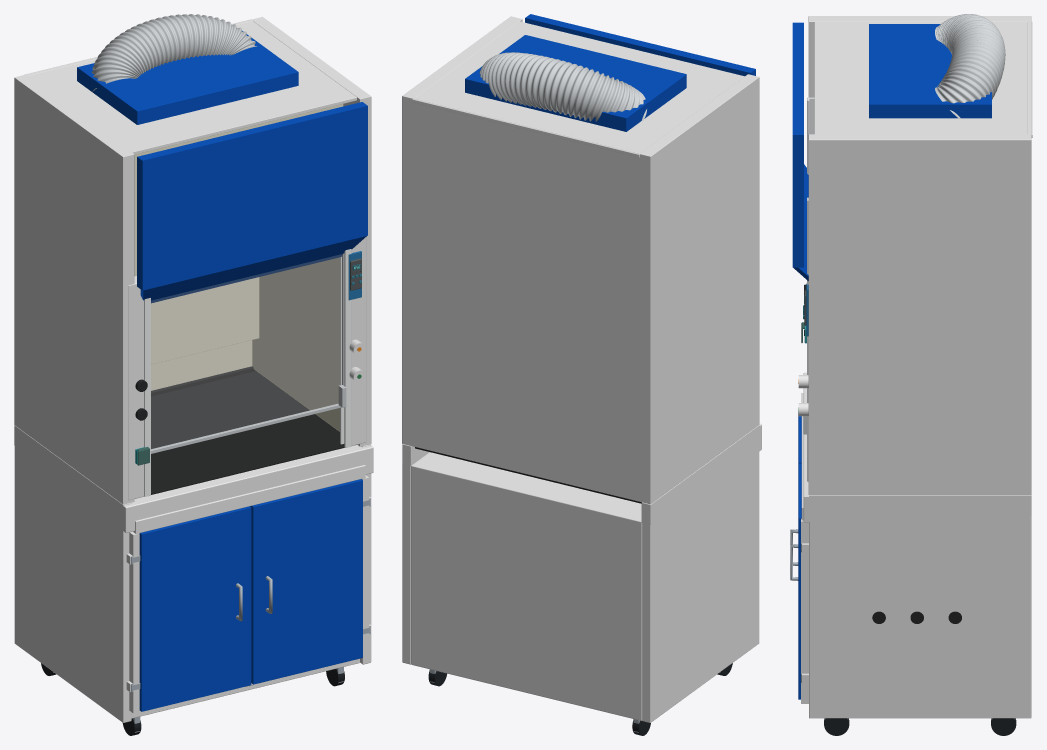
The model's file is INS0029.glb.
3 renders of one model, left to right at view 1: azimuth 30°, elevation 25°; view 2: azimuth 150°, elevation 25°; view 3: azimuth 270°, elevation 25°, orthographic. The views are drawn at different scales.
Visible parts, largest first — view 1: INS0029__upper_side_cabinet_-0.477, INS0029__blue_upper_front, INS0029__hood_revision_sash_glass, INS0029__lower_storage_left, INS0029__blue_storage_door_-1, INS0029__blue_storage_door_1, INS0029__black_worktop, INS0029__inner_side_lining_0.477, INS0029__hood_revision_plenum_roof, INS0029__blue_exhaust_cap, INS0029__photo_right_relief_1.22, INS0029__photo_corrugated_hose (+18 smaller); view 2: INS0029__photo_exterior_back, INS0029__lower_storage_back, INS0029__upper_side_cabinet_-0.477, INS0029__lower_storage_left, INS0029__hood_revision_plenum_roof, INS0029__photo_corrugated_hose, INS0029__blue_exhaust_cap, INS0029__upper_side_cabinet_0.477, INS0029__lower_storage_roof, INS0029__blue_upper_front, INS0029__photo_worktop_side_band_-1, INS0029__lower_storage_right; view 3: INS0029__upper_side_cabinet_0.477, INS0029__lower_storage_right, INS0029__hood_revision_plenum_roof, INS0029__blue_exhaust_cap, INS0029__photo_corrugated_hose, INS0029__photo_worktop_side_band_1, INS0029__blue_upper_front, INS0029__upper_side_cabinet_-0.477, INS0029__cabinet_front_jamb_1, INS0029__worktop_front_structure, INS0029__blue_storage_door_1, INS0029__photo_exterior_back (+1 smaller).
Part boxes in pixels (left/top/right/bottom): INS0029__upper_side_cabinet_-0.477: left=14, top=74, right=134, bottom=504; INS0029__blue_upper_front: left=137, top=102, right=367, bottom=290; INS0029__hood_revision_sash_glass: left=151, top=254, right=341, bottom=449; INS0029__lower_storage_left: left=14, top=446, right=131, bottom=722; INS0029__blue_storage_door_-1: left=139, top=506, right=251, bottom=711; INS0029__blue_storage_door_1: left=250, top=479, right=362, bottom=684; INS0029__black_worktop: left=151, top=371, right=339, bottom=486; INS0029__inner_side_lining_0.477: left=252, top=257, right=339, bottom=431; INS0029__hood_revision_plenum_roof: left=24, top=19, right=356, bottom=154; INS0029__blue_exhaust_cap: left=77, top=31, right=298, bottom=124; INS0029__photo_right_relief_1.22: left=151, top=277, right=259, bottom=364; INS0029__photo_corrugated_hose: left=91, top=14, right=256, bottom=92; INS0029__photo_exterior_back: left=409, top=96, right=644, bottom=501; INS0029__lower_storage_back: left=411, top=462, right=642, bottom=720; INS0029__upper_side_cabinet_-0.477: left=639, top=74, right=759, bottom=504; INS0029__lower_storage_left: left=642, top=445, right=759, bottom=722; INS0029__hood_revision_plenum_roof: left=412, top=21, right=744, bottom=157; INS0029__photo_corrugated_hose: left=479, top=52, right=646, bottom=121; INS0029__blue_exhaust_cap: left=465, top=35, right=686, bottom=131; INS0029__upper_side_cabinet_0.477: left=402, top=16, right=522, bottom=446; INS0029__lower_storage_roof: left=416, top=452, right=641, bottom=517; INS0029__blue_upper_front: left=525, top=14, right=755, bottom=76; INS0029__photo_worktop_side_band_-1: left=641, top=425, right=759, bottom=524; INS0029__lower_storage_right: left=402, top=464, right=410, bottom=664; INS0029__upper_side_cabinet_0.477: left=808, top=134, right=1031, bottom=494; INS0029__lower_storage_right: left=809, top=516, right=1031, bottom=718; INS0029__hood_revision_plenum_roof: left=814, top=21, right=1032, bottom=137; INS0029__blue_exhaust_cap: left=869, top=24, right=991, bottom=118; INS0029__photo_corrugated_hose: left=935, top=14, right=1005, bottom=118; INS0029__photo_worktop_side_band_1: left=809, top=495, right=1031, bottom=515; INS0029__blue_upper_front: left=792, top=22, right=803, bottom=267; INS0029__upper_side_cabinet_-0.477: left=808, top=16, right=1031, bottom=97; INS0029__cabinet_front_jamb_1: left=801, top=518, right=808, bottom=703; INS0029__worktop_front_structure: left=803, top=372, right=824, bottom=522; INS0029__blue_storage_door_1: left=798, top=463, right=801, bottom=699; INS0029__photo_exterior_back: left=1027, top=19, right=1031, bottom=136.
Size of the model in its own units: 1 by 2.46 by 0.8282.
21 materials, 1 textured.
